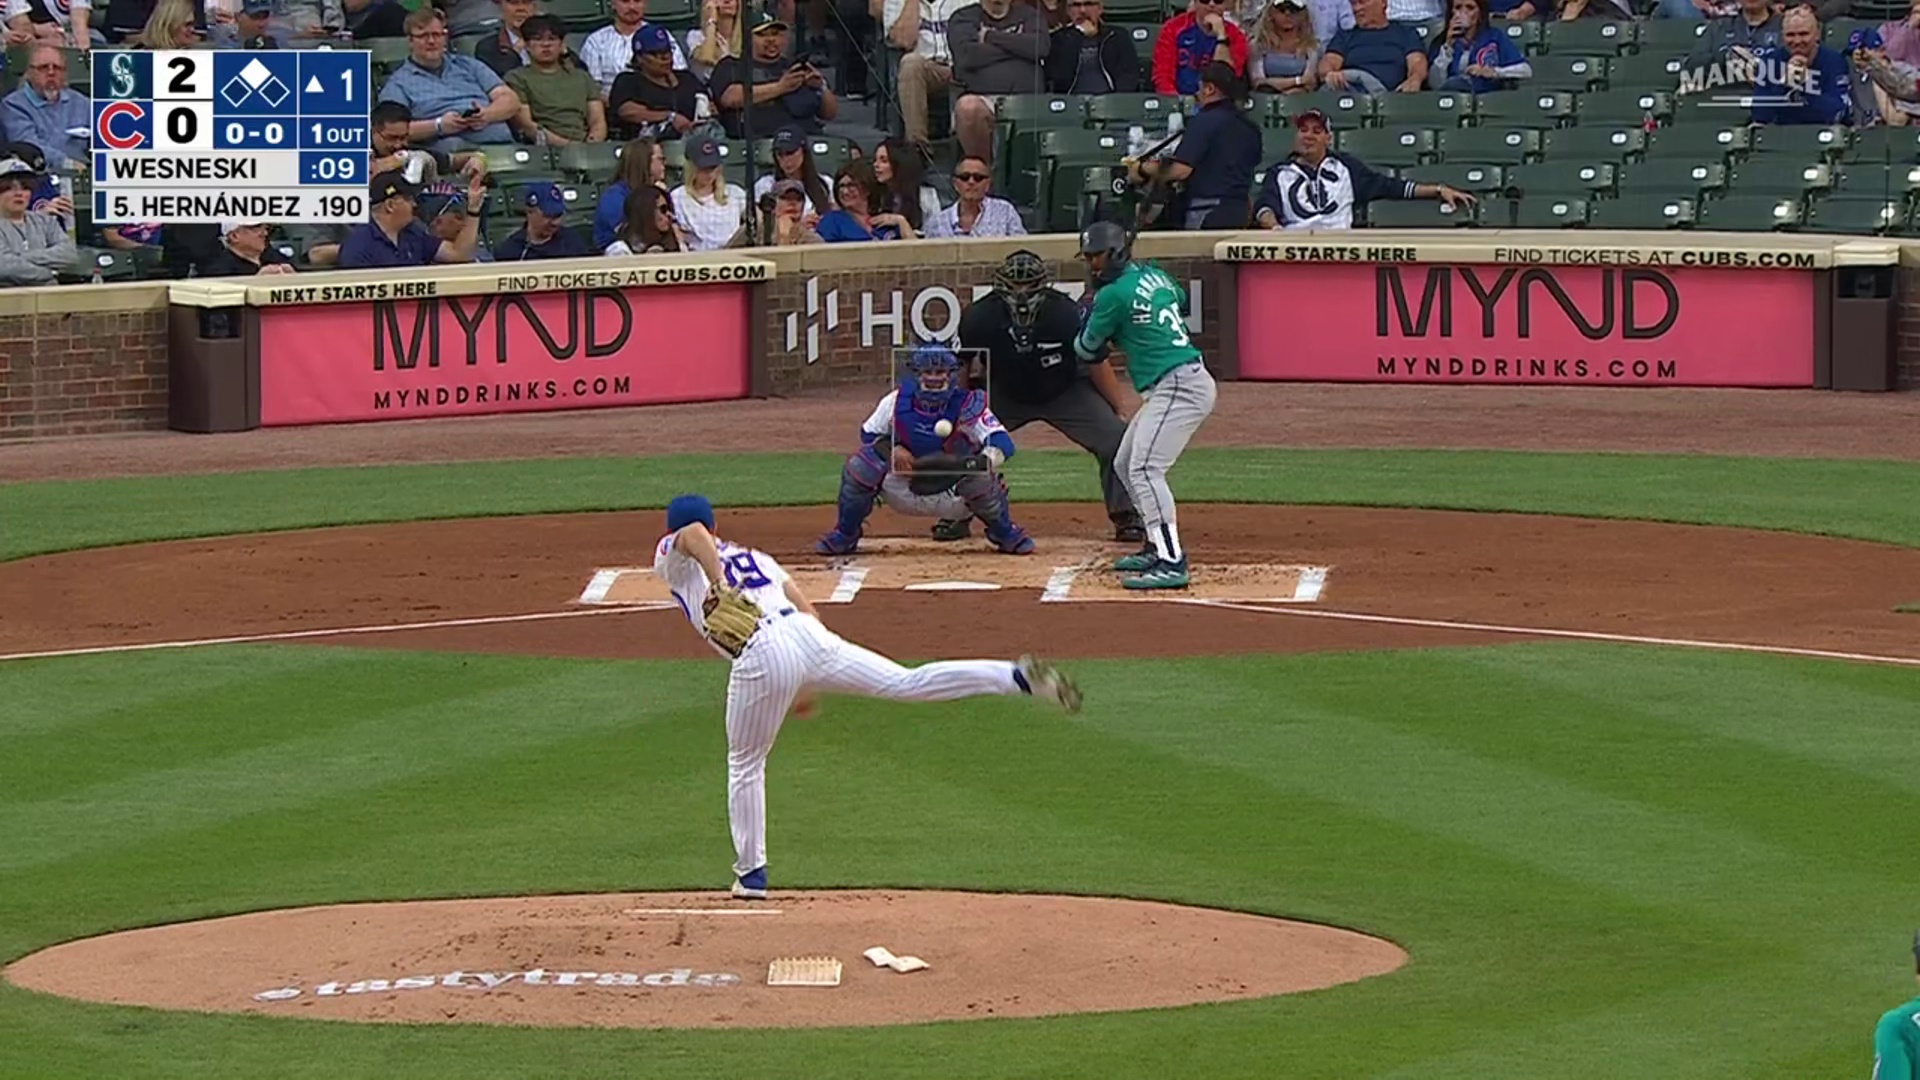baseball: (934, 418, 951, 436)
